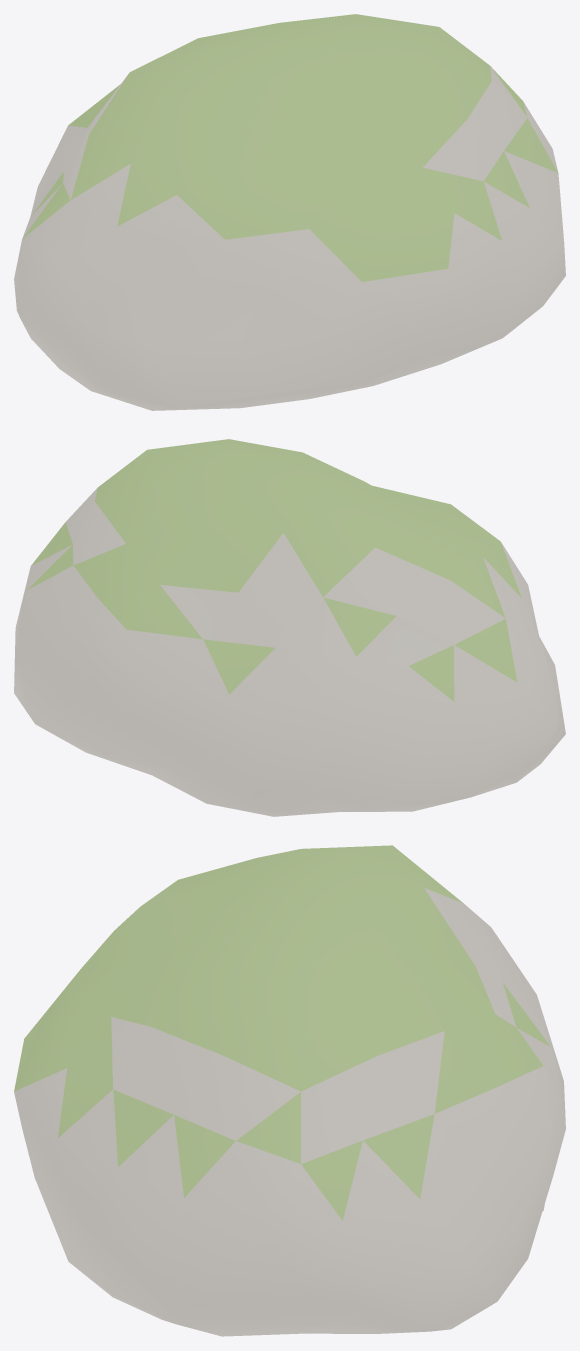
The model's file is Blender_BoulderRound_1.glb.
The picture shows the model from 3 angles, top to bottom: view 1: azimuth 30°, elevation 25°; view 2: azimuth 150°, elevation 25°; view 3: azimuth 270°, elevation 25°; orthographic projection. The views are drawn at different scales.
Visible parts, largest first — view 1: Blender_BoulderRound_1; view 2: Blender_BoulderRound_1; view 3: Blender_BoulderRound_1.
Part boxes in pixels (box(x1,y1,x2,y2)): Blender_BoulderRound_1: box(14, 14, 565, 410); Blender_BoulderRound_1: box(14, 439, 565, 816); Blender_BoulderRound_1: box(14, 845, 565, 1336).
Size of the model in its own units: 2.07 by 1.07 by 1.53.
